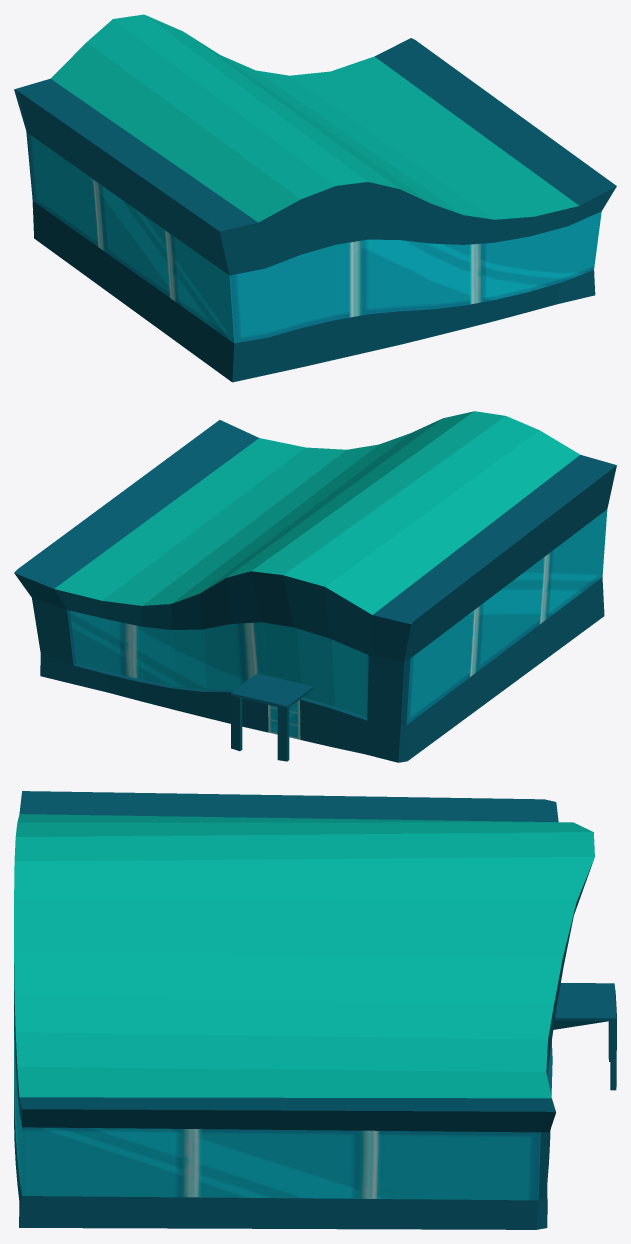
Rendered from LuxuryCarShop.fbx.
3 renders of one model, top to bottom at view 1: azimuth 30°, elevation 25°; view 2: azimuth 150°, elevation 25°; view 3: azimuth 270°, elevation 25°, orthographic. The views are drawn at different scales.
Visible parts, largest first — view 1: CarLuxuryShop; view 2: CarLuxuryShop; view 3: CarLuxuryShop.
Part boxes in pixels (bbox=[...]): CarLuxuryShop: bbox=[14, 14, 616, 382]; CarLuxuryShop: bbox=[14, 411, 616, 762]; CarLuxuryShop: bbox=[14, 791, 616, 1229].
Size of the model in its own units: 229 by 98.27 by 232.
